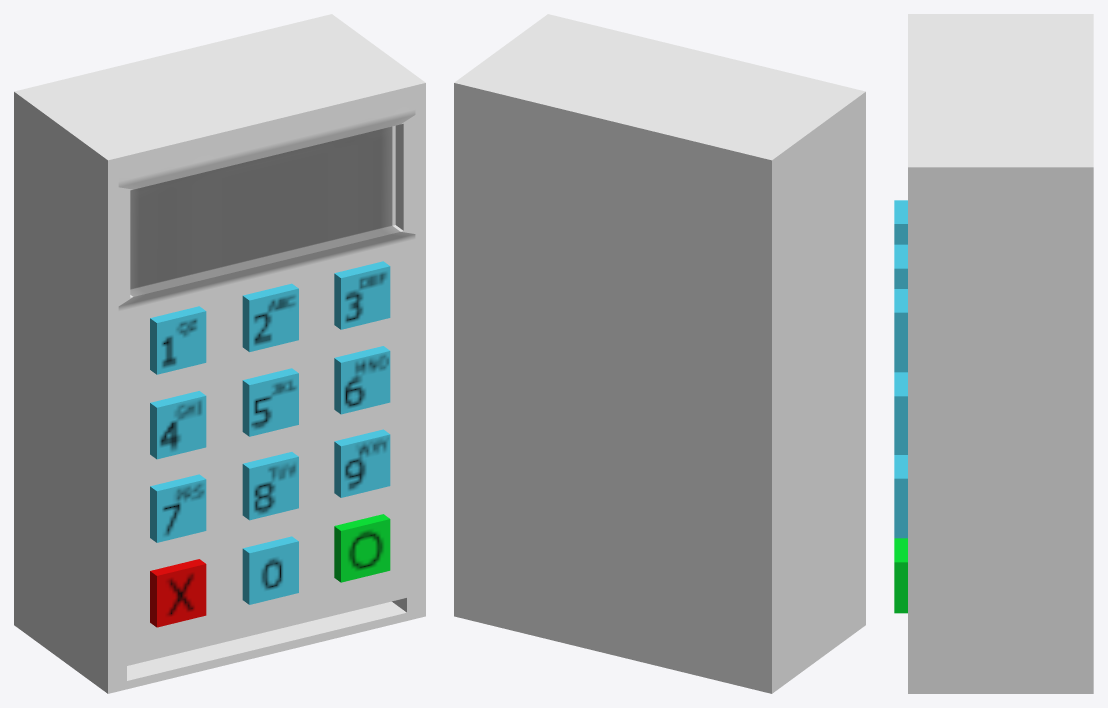
Rendered from YuchenZ_Keypad_Unwrapped (1).fbx.
3 renders of one model, left to right at view 1: azimuth 30°, elevation 25°; view 2: azimuth 150°, elevation 25°; view 3: azimuth 270°, elevation 25°, orthographic.
Visible parts, largest first — view 1: polySurface7, polySurface6, polySurface1, polySurface8, polySurface12, polySurface13, polySurface2, polySurface3, polySurface4, polySurface9, polySurface11, polySurface5 (+1 smaller); view 2: polySurface7; view 3: polySurface7, polySurface3, polySurface8, polySurface9, polySurface13, polySurface5, polySurface10.
Part boxes in pixels (x1,y1,x2,y2): polySurface7: (14,14,425,693); polySurface6: (242,368,298,436); polySurface1: (150,474,206,542); polySurface8: (334,346,390,414); polySurface12: (242,452,298,520); polySurface13: (334,429,390,497); polySurface2: (242,536,298,604); polySurface3: (334,514,390,582); polySurface4: (150,559,206,627); polySurface9: (334,261,390,329); polySurface11: (150,391,206,459); polySurface5: (242,283,298,352); polySurface7: (454,14,865,693); polySurface7: (908,14,1093,693); polySurface3: (894,538,907,613); polySurface8: (894,372,907,447); polySurface9: (894,289,907,363); polySurface13: (894,455,907,529); polySurface5: (894,244,907,288); polySurface10: (894,200,907,244).
Size of the model in its own units: 6.87 by 11.01 by 3.77.
